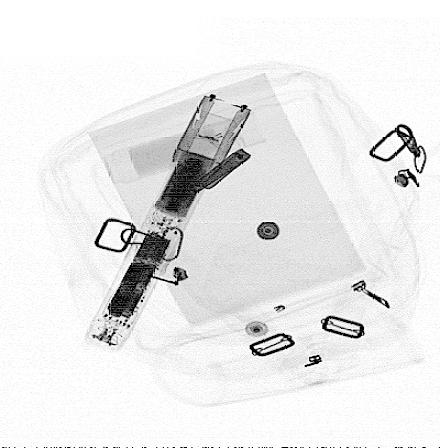Baton: (84, 92, 254, 351)
